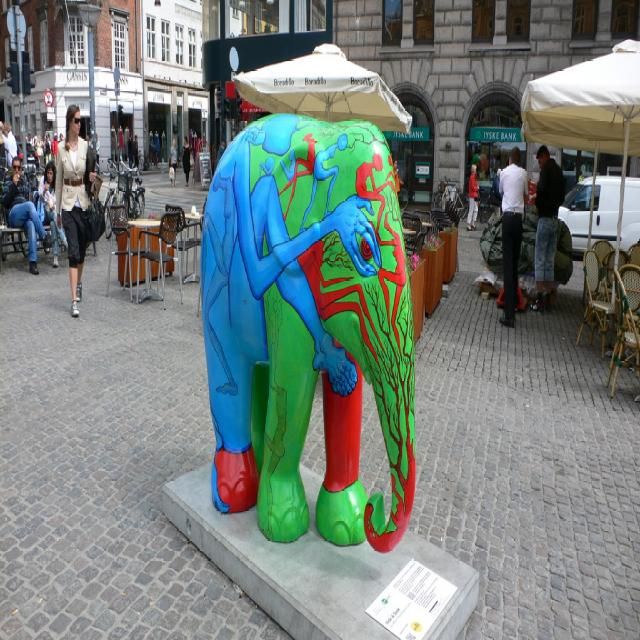elephant: (200, 112, 414, 541)
